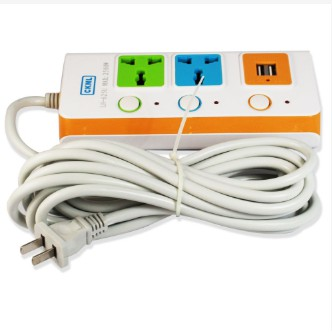Three_eye_plug: (46, 46, 329, 163)
